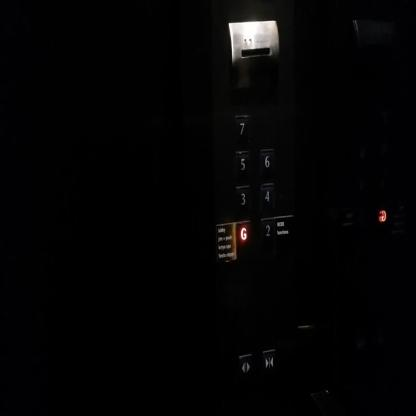2: (259, 216, 276, 245)
3: (234, 184, 252, 214)
4: (259, 181, 275, 214)
5: (234, 149, 251, 180)
6: (258, 147, 276, 177)
7: (234, 112, 251, 146)
G: (235, 218, 252, 249)
close: (261, 348, 276, 377)
open: (238, 352, 253, 379)
